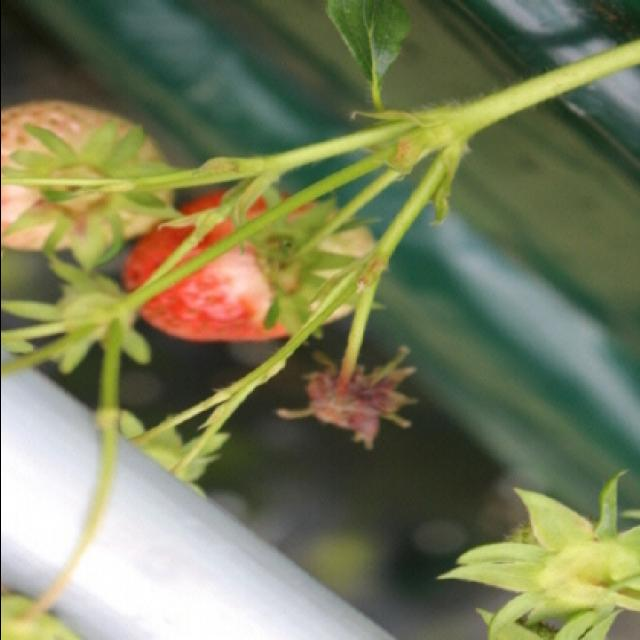Gray Mold: (273, 348, 419, 454)
